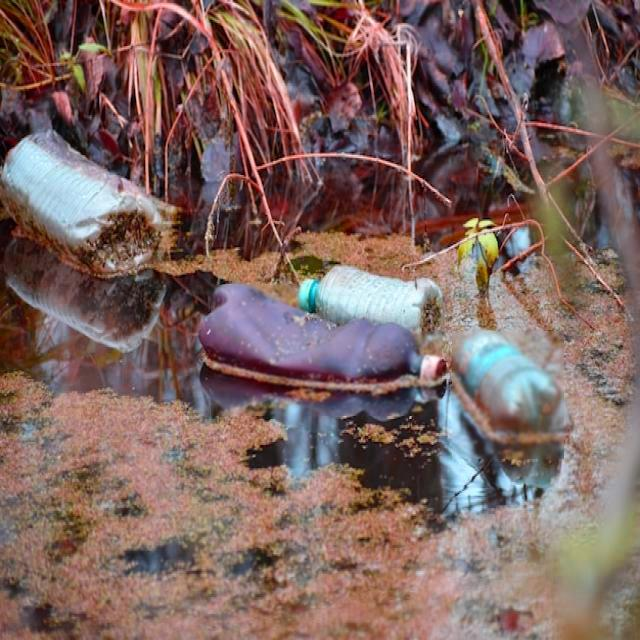Plastic: (194, 277, 451, 398), (0, 127, 162, 276), (445, 324, 570, 440), (289, 263, 440, 331)
